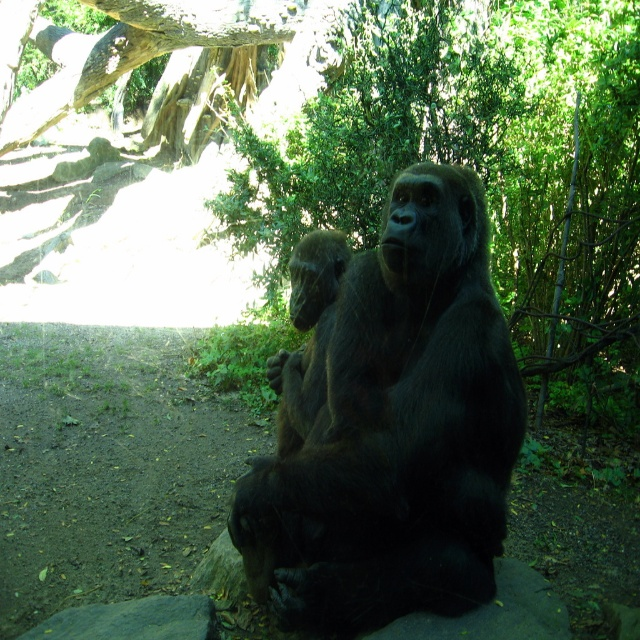Monkey: (228, 161, 527, 639)
